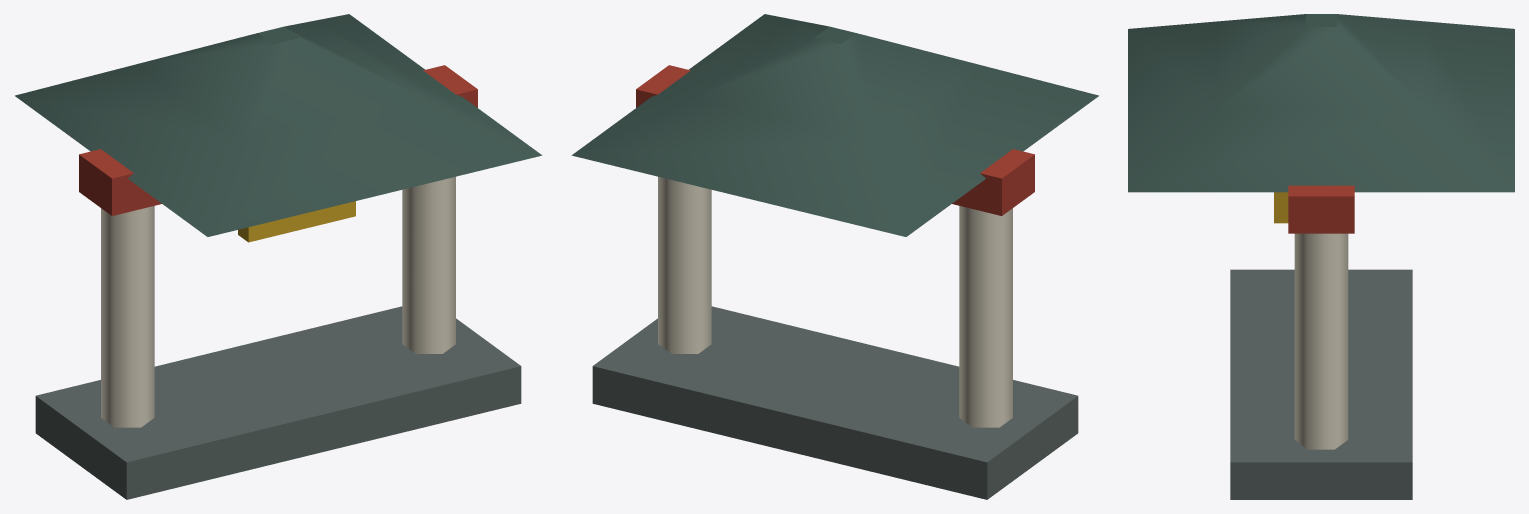
File: shan_men.glb
3 views of the same model, side by side, from view 1: azimuth 30°, elevation 25°; view 2: azimuth 150°, elevation 25°; view 3: azimuth 270°, elevation 25° (orthographic).
Visible parts, largest first — view 1: _MeshInstance3D_60, _MeshInstance3D_56, _MeshInstance3D_57, _MeshInstance3D_58, _MeshInstance3D_59, _MeshInstance3D_61; view 2: _MeshInstance3D_60, _MeshInstance3D_56, _MeshInstance3D_57, _MeshInstance3D_58, _MeshInstance3D_59; view 3: _MeshInstance3D_60, _MeshInstance3D_56, _MeshInstance3D_58, _MeshInstance3D_59, _MeshInstance3D_61.
Boxes of the visible parts, bbox=[...] form: _MeshInstance3D_60: bbox=[15, 14, 542, 236]; _MeshInstance3D_56: bbox=[35, 306, 521, 499]; _MeshInstance3D_57: bbox=[101, 206, 154, 427]; _MeshInstance3D_58: bbox=[402, 176, 455, 353]; _MeshInstance3D_59: bbox=[79, 65, 477, 215]; _MeshInstance3D_61: bbox=[238, 201, 355, 242]; _MeshInstance3D_60: bbox=[571, 14, 1098, 236]; _MeshInstance3D_56: bbox=[592, 306, 1078, 499]; _MeshInstance3D_57: bbox=[959, 206, 1012, 427]; _MeshInstance3D_58: bbox=[658, 176, 711, 353]; _MeshInstance3D_59: bbox=[636, 65, 1034, 215]; _MeshInstance3D_60: bbox=[1128, 14, 1514, 192]; _MeshInstance3D_56: bbox=[1230, 269, 1412, 499]; _MeshInstance3D_58: bbox=[1294, 233, 1348, 449]; _MeshInstance3D_59: bbox=[1288, 185, 1354, 233]; _MeshInstance3D_61: bbox=[1274, 192, 1288, 223].
Size of the model in its own units: 1.1 by 1.02 by 0.9334.
